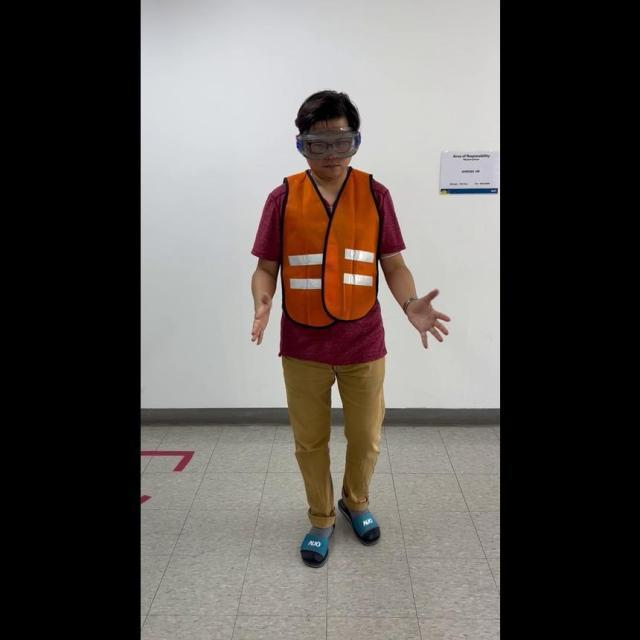bare_hand: (402, 284, 450, 349), (248, 289, 273, 347)
